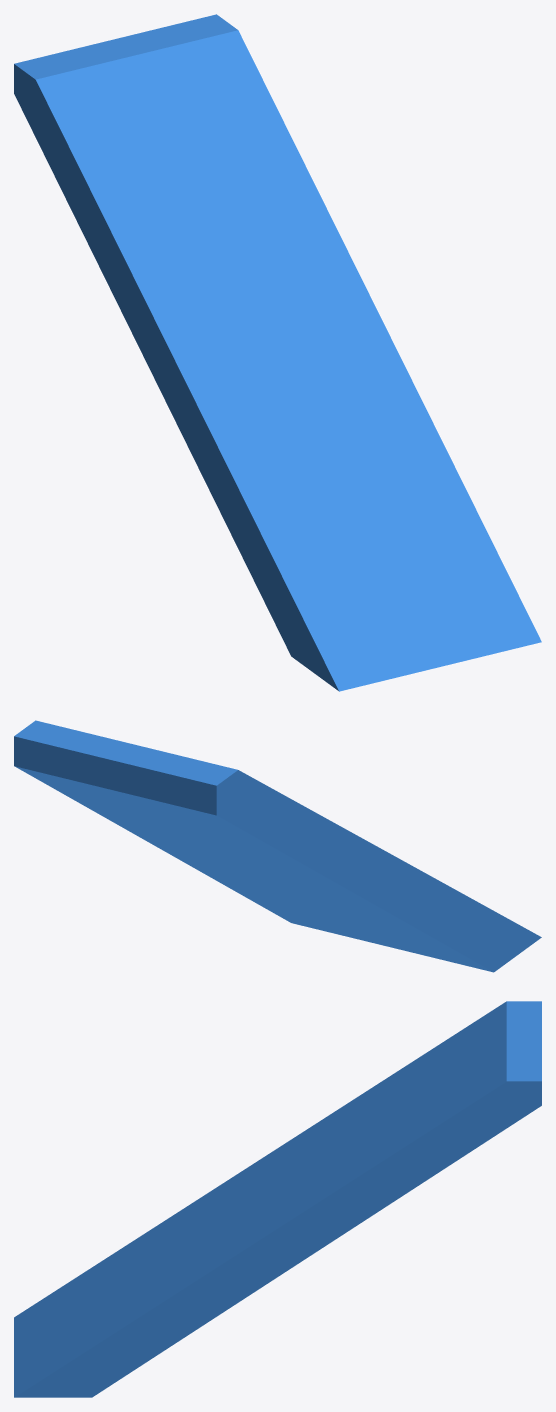
File: Collision_Stair_Interior_Simple.fbx
3 views of the same model, one above another, from view 1: azimuth 30°, elevation 25°; view 2: azimuth 150°, elevation 25°; view 3: azimuth 270°, elevation 25° (orthographic). The views are drawn at different scales.
Parts seen in each view (by area): view 1: UCX_Stair_Interior_Simple_1; view 2: UCX_Stair_Interior_Simple_1; view 3: UCX_Stair_Interior_Simple_1.
Boxes of the visible parts, left/top/right/bottom form: UCX_Stair_Interior_Simple_1: left=14, top=14, right=541, bottom=691; UCX_Stair_Interior_Simple_1: left=14, top=720, right=541, bottom=972; UCX_Stair_Interior_Simple_1: left=14, top=1001, right=541, bottom=1397.
Bounding box in the file's own units: 165 × 302 × 457.
